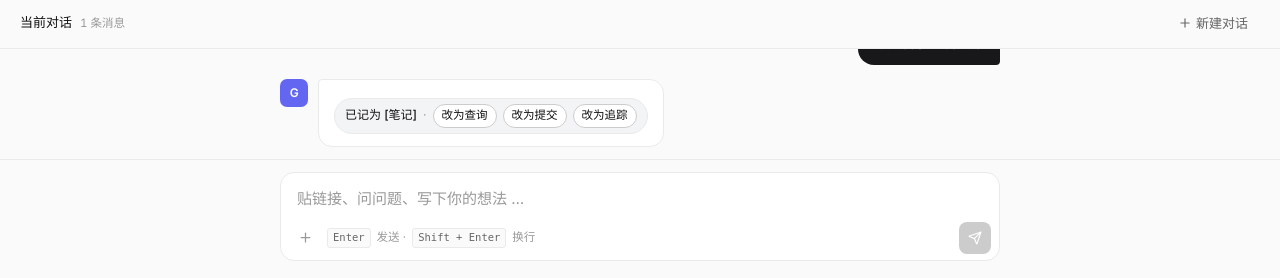
Test: ChatView integration › I3: hides reclassify chip bar + shows reclassified hint after successful reclassify
This screenshot has width=1280, height=278.
Expected: the element with test id "reclassify-chip-bar" is shown, [334,98,648,134]
Click the button "改为查询". click: (464, 116)
box: [432,104,496,128]
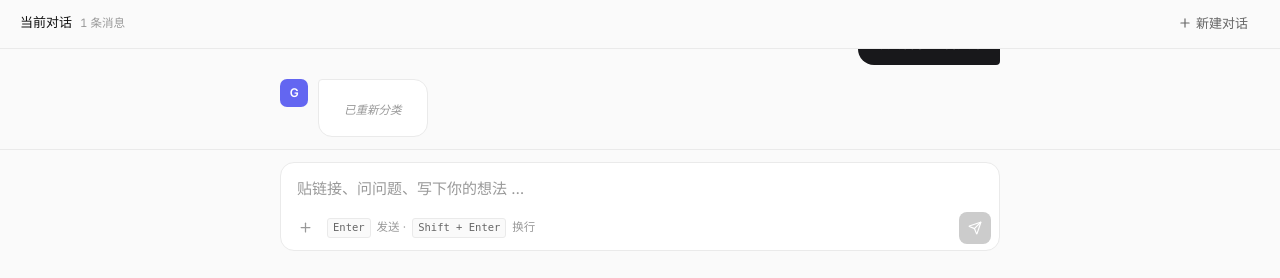
Expected: the element with test id "reclassify-chip-bar" is gone
Expected: the text "已重新分类" is shown, [344,103,402,117]
